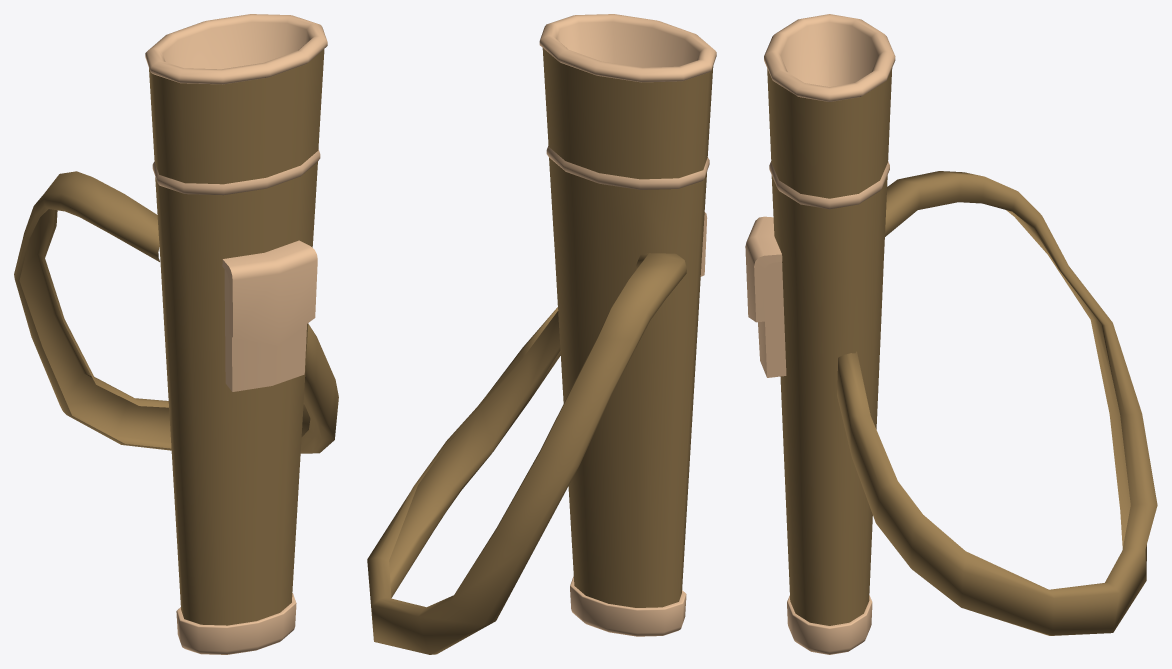
The model's file is arrowbag.fbx.
3 views of the same model, side by side, from view 1: azimuth 30°, elevation 25°; view 2: azimuth 150°, elevation 25°; view 3: azimuth 270°, elevation 25° (orthographic). The views are drawn at different scales.
Visible parts, largest first — view 1: arrowbag; view 2: arrowbag; view 3: arrowbag.
Boxes of the visible parts, bbox=[...] form: arrowbag: bbox=[14, 14, 338, 654]; arrowbag: bbox=[367, 14, 716, 654]; arrowbag: bbox=[745, 14, 1157, 654].
Bounding box in the file's own units: 29.14 × 62.38 × 40.21.
